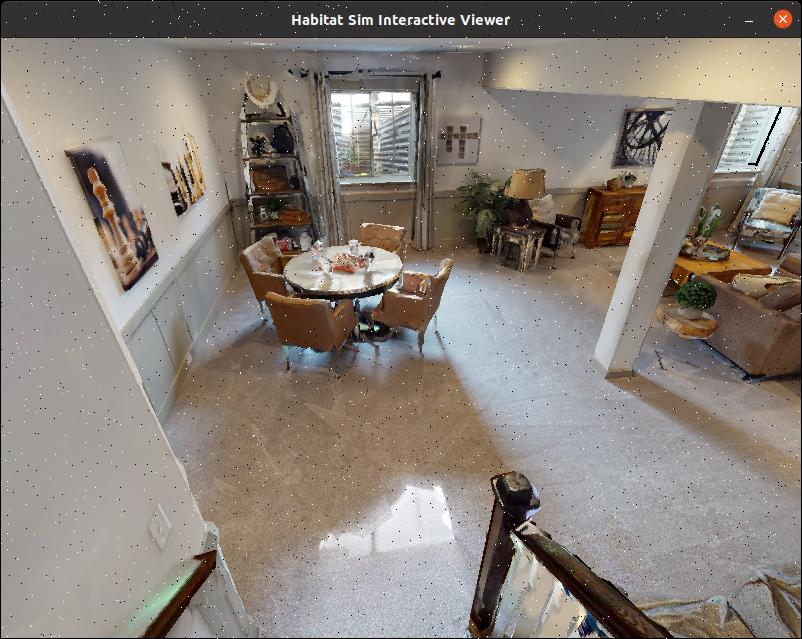chair: (368, 236, 463, 365), (262, 290, 383, 379), (243, 237, 300, 320)
table: (287, 233, 406, 331)
